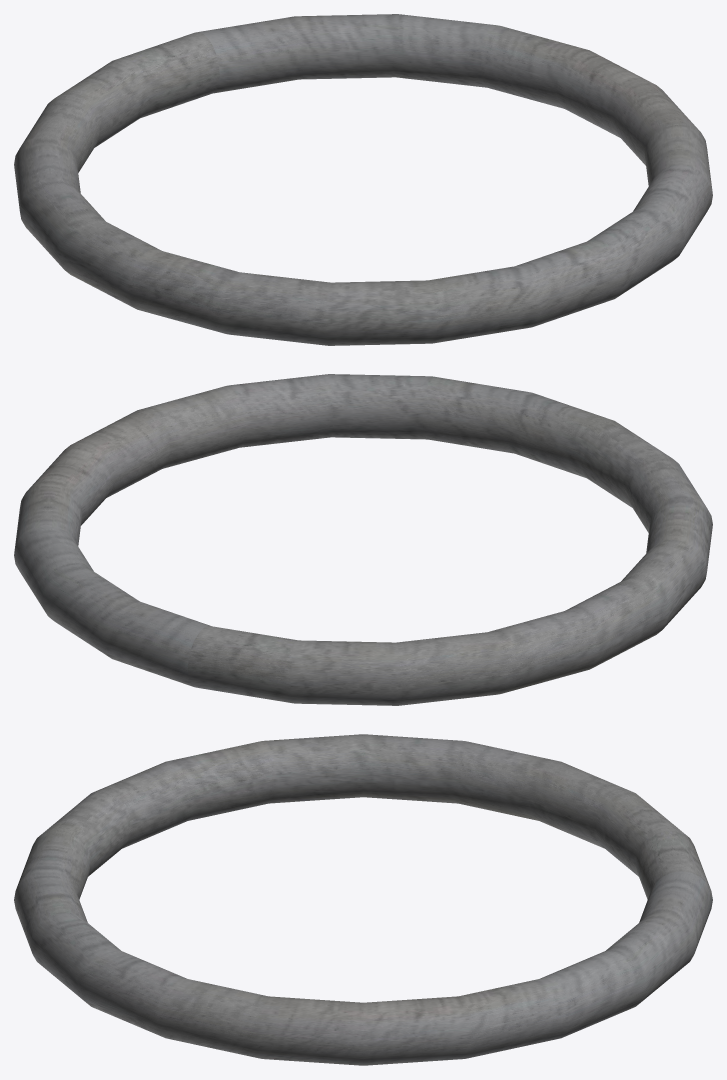
Rendered from elevator_ring_1.fbx.
3 views of the same model, one above another, from view 1: azimuth 30°, elevation 25°; view 2: azimuth 150°, elevation 25°; view 3: azimuth 270°, elevation 25° (orthographic).
Visible parts, largest first — view 1: pTorus1; view 2: pTorus1; view 3: pTorus1.
Boxes of the visible parts, x1,y1,x2,y2 form: pTorus1: (14,14,712,345); pTorus1: (14,374,712,705); pTorus1: (14,734,712,1065).
Size of the model in its own units: 81.82 by 7.44 by 81.82.
